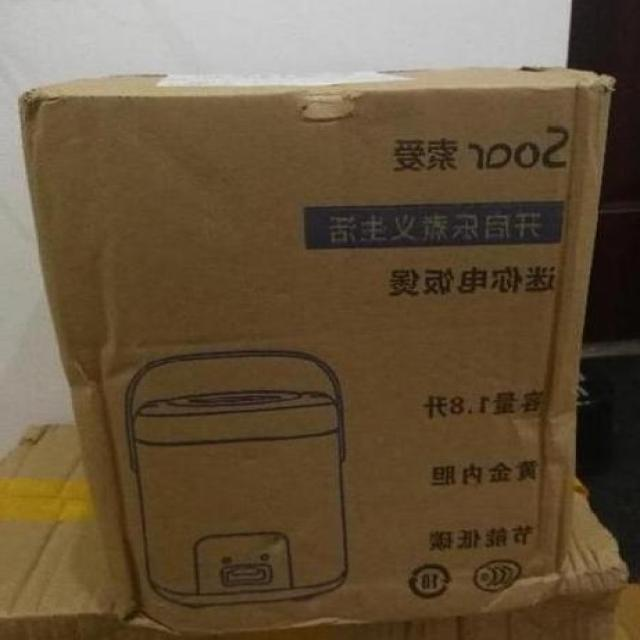cardboard: (3, 64, 610, 640)
